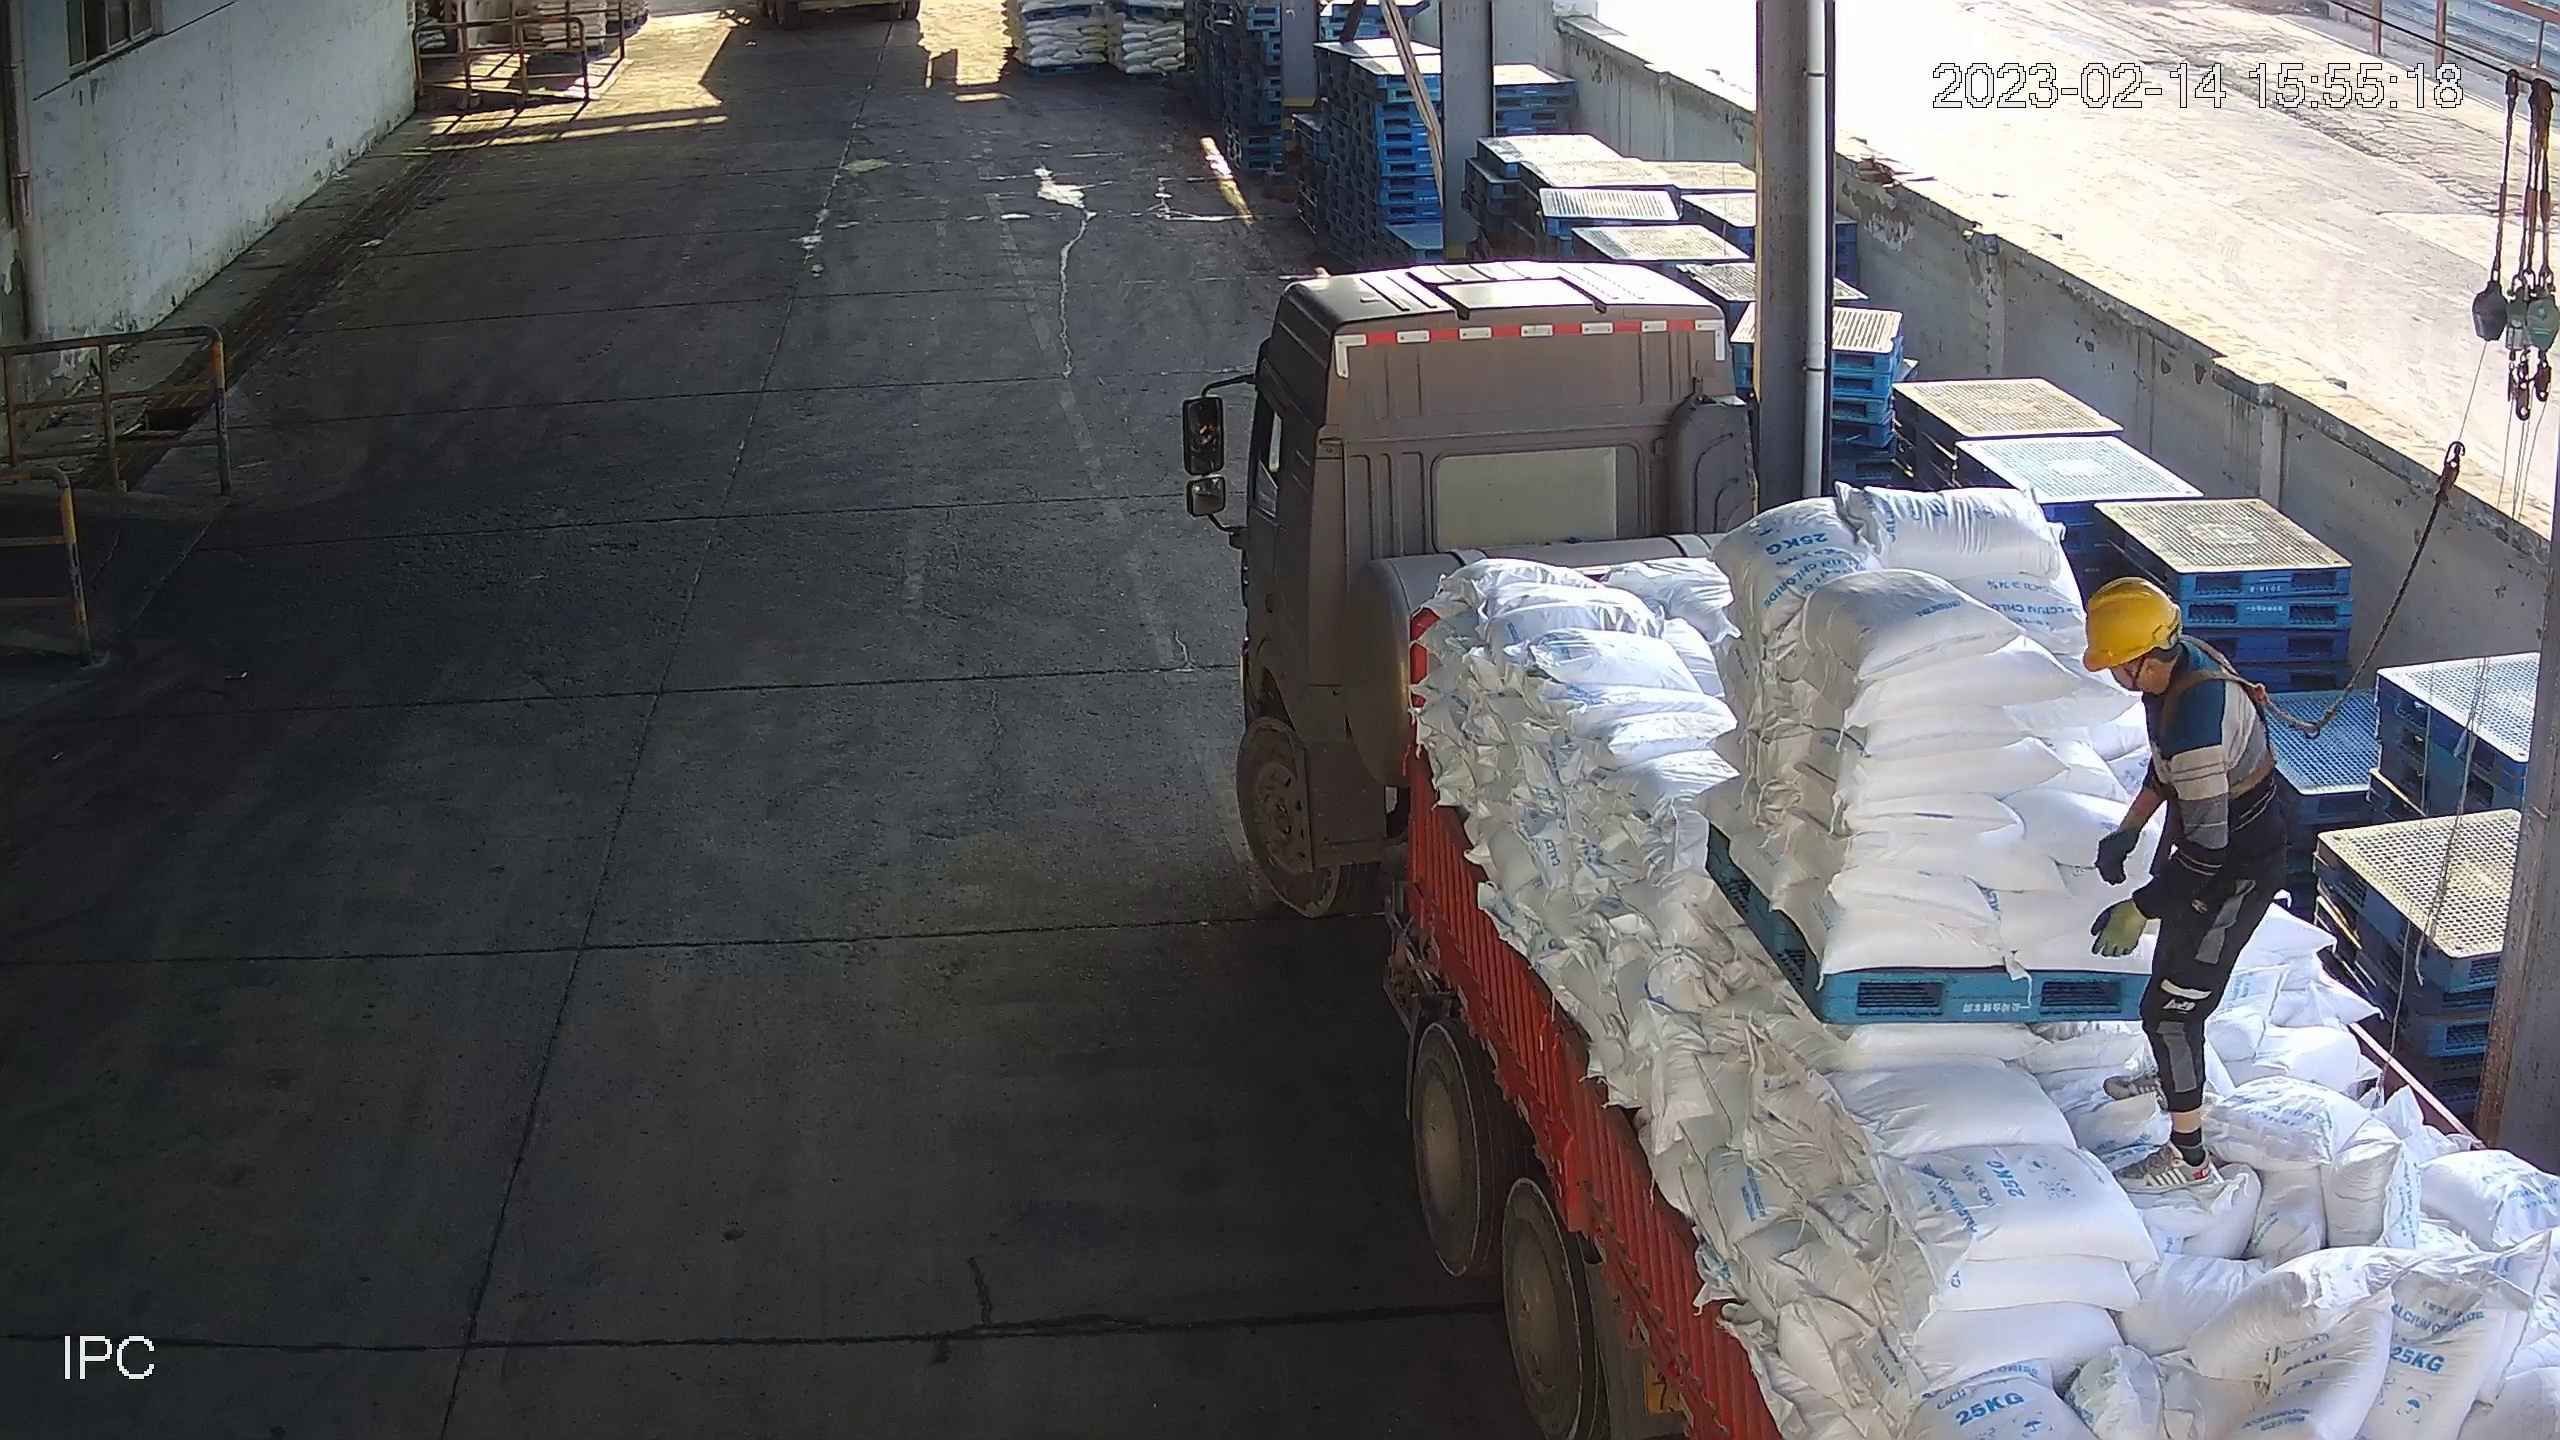belt: (2173, 648, 2307, 781)
head: (2097, 581, 2258, 736)
helmet: (2076, 579, 2188, 667)
people: (2083, 578, 2283, 1197)
truck: (1183, 255, 2560, 1440)
